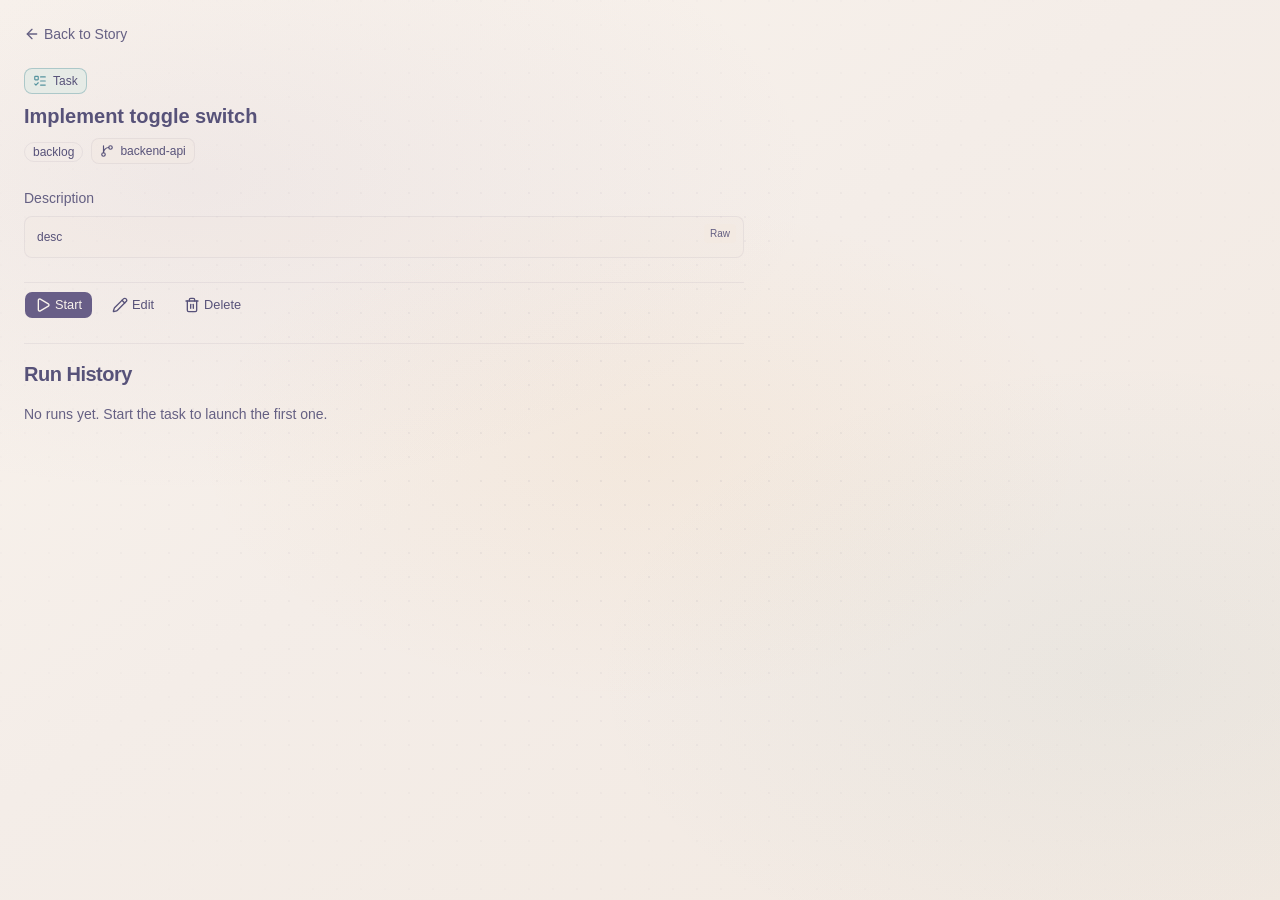
Test: TaskDetailPage › clicking Edit opens the Edit Task dialog pre-populated from the task
Click the button with test id "task-edit-button" at (133, 305), box 101,291 -> 165,319
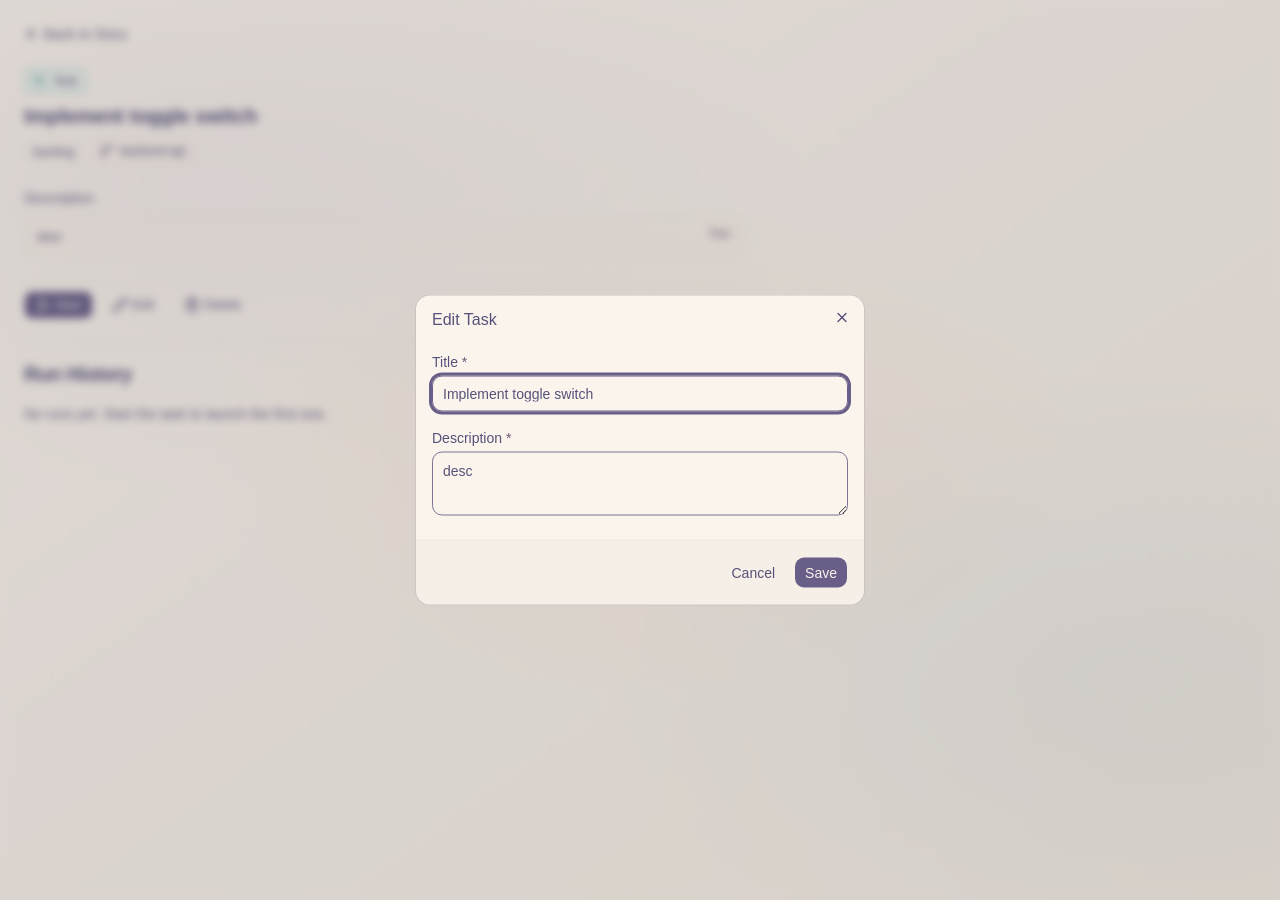
Check: the field with test id "edit-task-title" holds "Implement toggle switch", box 432,376 -> 848,412
